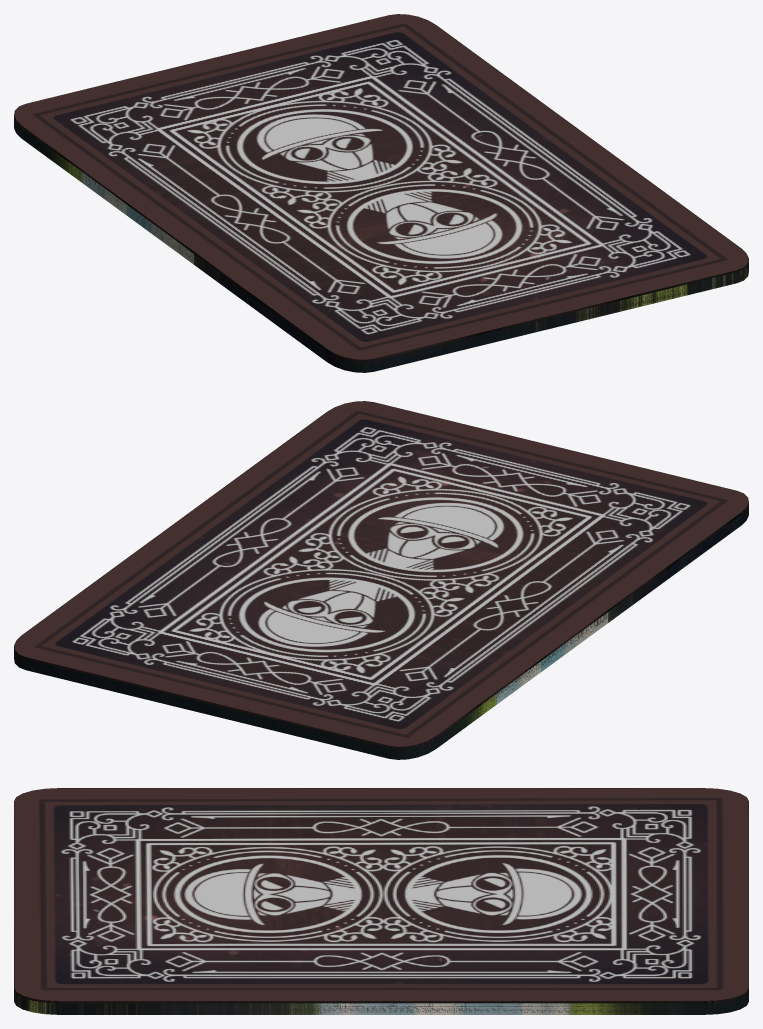
File: fourof_cups_tarot.glb
The picture shows the model from 3 angles, top to bottom: view 1: azimuth 30°, elevation 25°; view 2: azimuth 150°, elevation 25°; view 3: azimuth 270°, elevation 25°; orthographic projection. The views are drawn at different scales.
Visible parts, largest first — view 1: Plane.002, Plane.001; view 2: Plane.002, Plane.001; view 3: Plane.002, Plane.001.
Boxes of the visible parts, <box> form: Plane.002: <box>14,14,748,370</box>; Plane.001: <box>14,118,748,372</box>; Plane.002: <box>14,401,748,756</box>; Plane.001: <box>14,505,748,759</box>; Plane.002: <box>14,788,748,1012</box>; Plane.001: <box>14,990,748,1014</box>.
Bounding box in the file's own units: 2.28 × 0.0684 × 3.32.
Materials: 2 (2 with a texture image).
